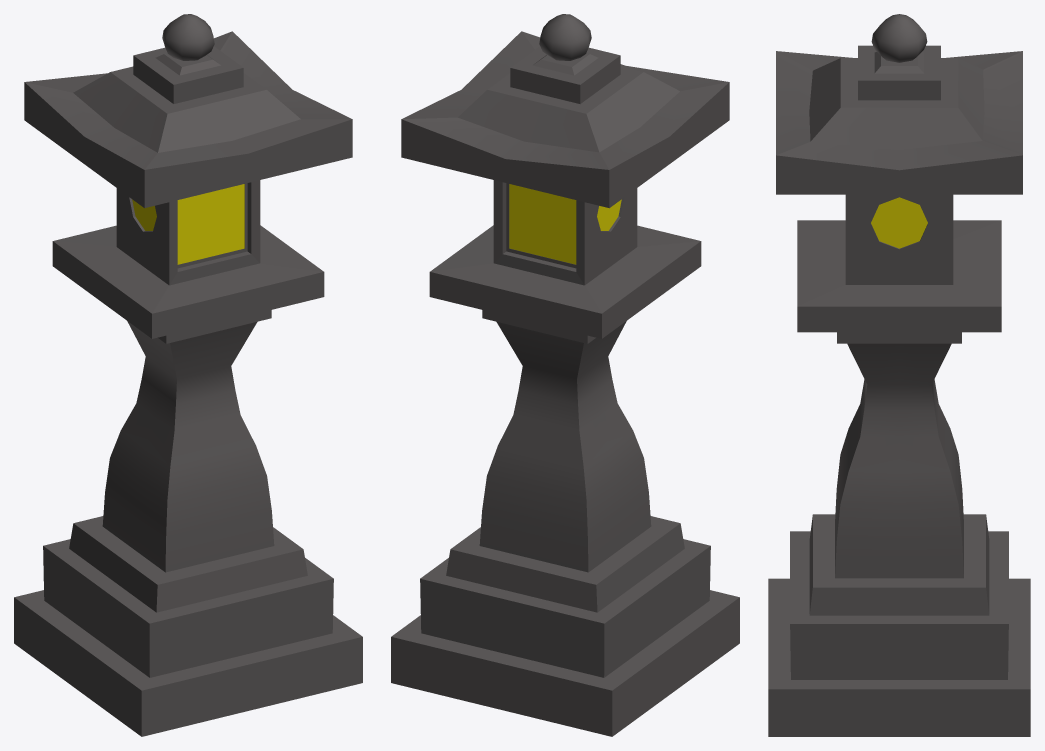
File: Lampara.fbx
3 views of the same model, side by side, from view 1: azimuth 30°, elevation 25°; view 2: azimuth 150°, elevation 25°; view 3: azimuth 270°, elevation 25° (orthographic). The views are drawn at different scales.
Visible parts, largest first — view 1: Escenario__1_:pSphere13; view 2: Escenario__1_:pSphere13; view 3: Escenario__1_:pSphere13.
Boxes of the visible parts, bbox=[...] form: Escenario__1_:pSphere13: bbox=[14, 14, 362, 736]; Escenario__1_:pSphere13: bbox=[391, 14, 739, 736]; Escenario__1_:pSphere13: bbox=[768, 14, 1030, 736].
Size of the model in its own units: 3.84 by 10.76 by 3.84.
